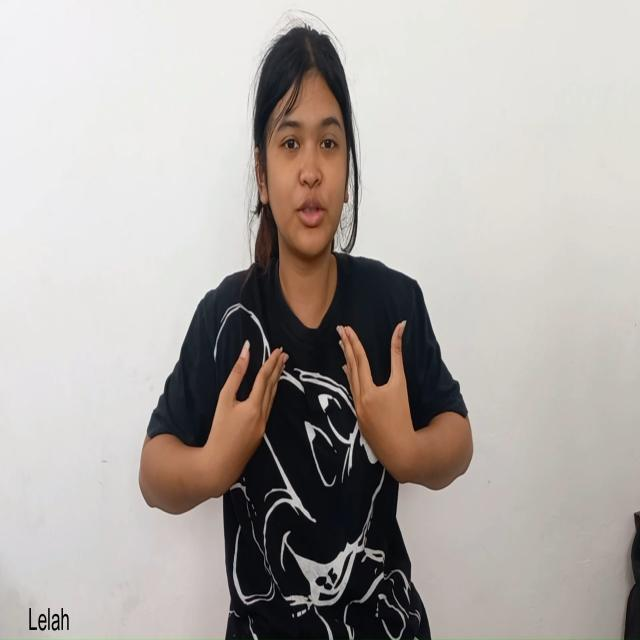Lelah -BISINDO-: (128, 305, 484, 512)
